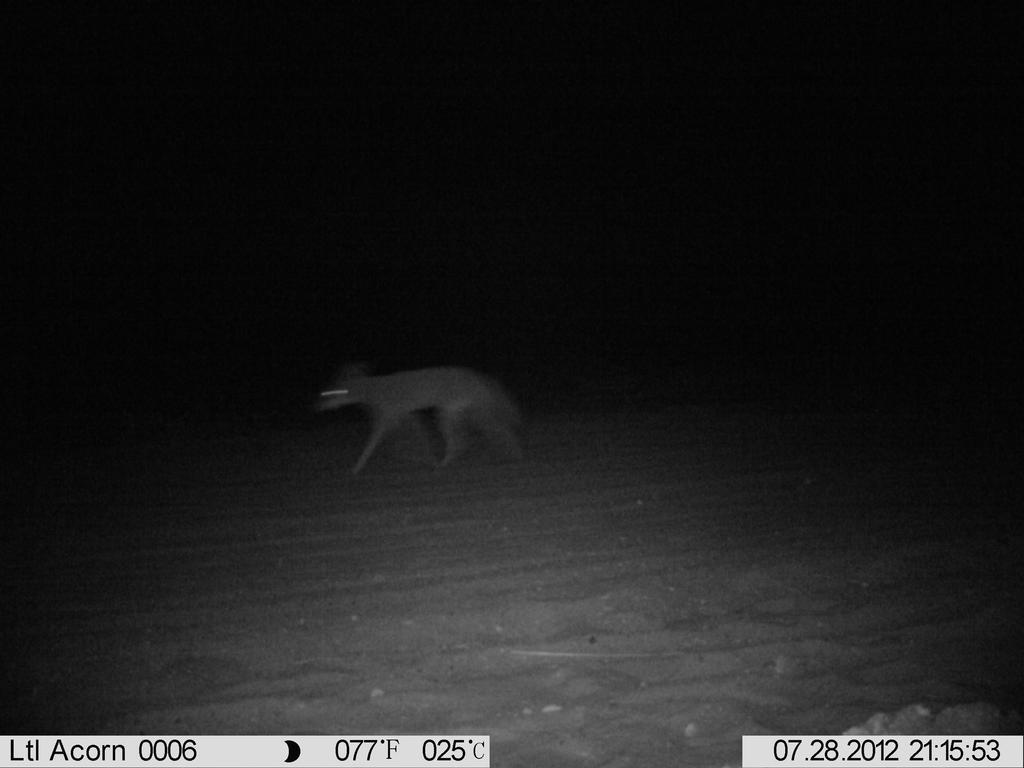coyote: (317, 340, 548, 493)
